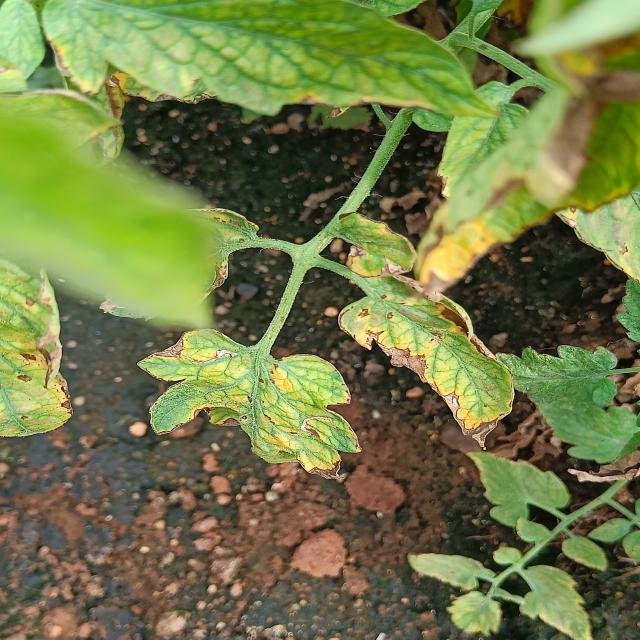Tomato mosaic virus leaf: (132, 326, 366, 482), (332, 271, 520, 452), (0, 324, 78, 442)
